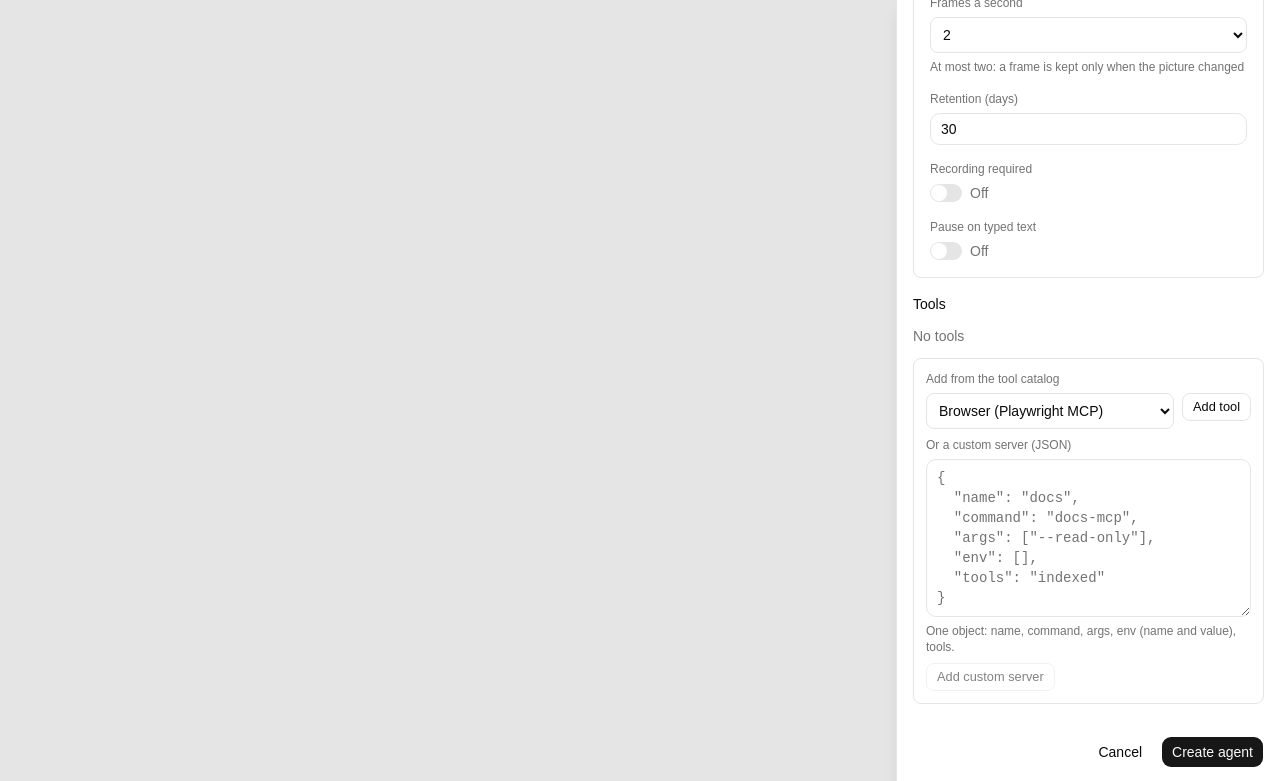
AgentSheet: create › names the required fields when saved empty, and sends nothing
The image size is (1280, 781).
(page scrolled)
Click the button "Create agent". click: (1212, 752)
box: x1=1161 y1=736 x2=1264 y2=768
(page scrolled)
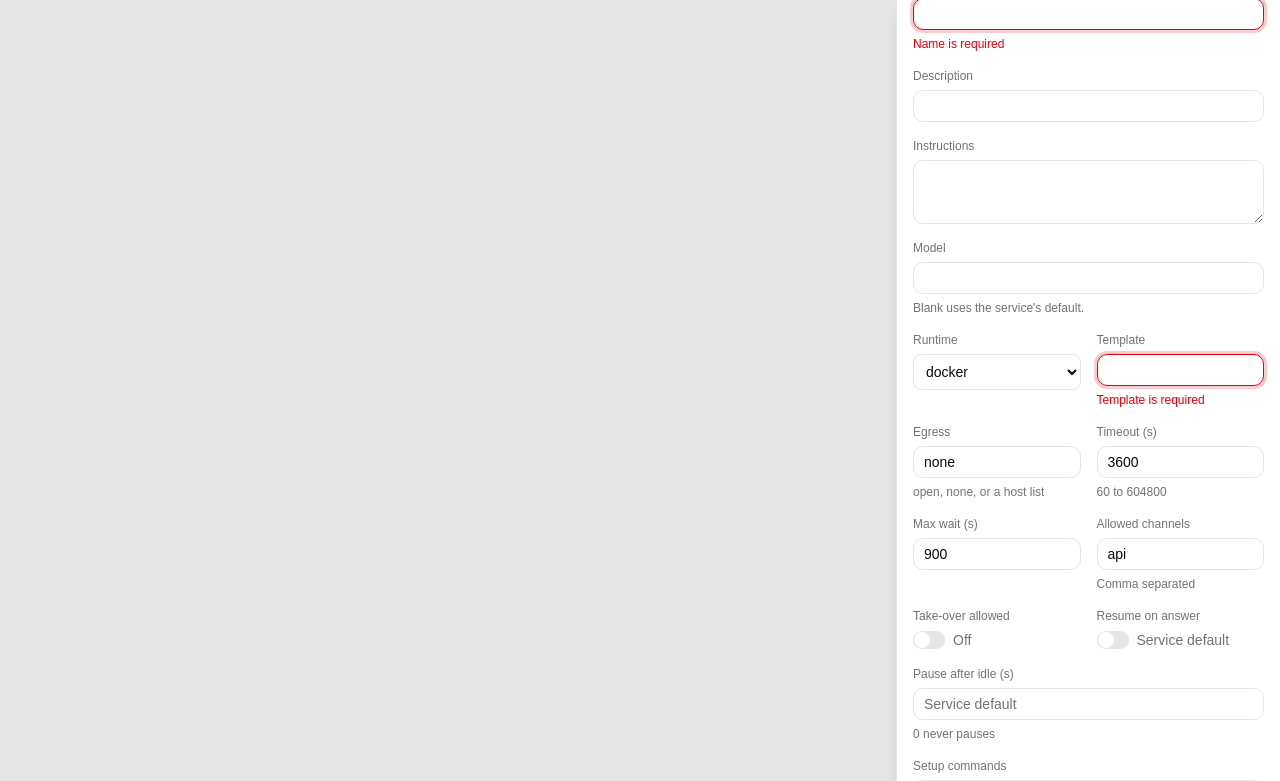
Result: the text "Name is required" is shown at x1=913 y1=37 x2=1004 y2=51
Result: the text "Template is required" is shown at x1=1096 y1=393 x2=1205 y2=407
